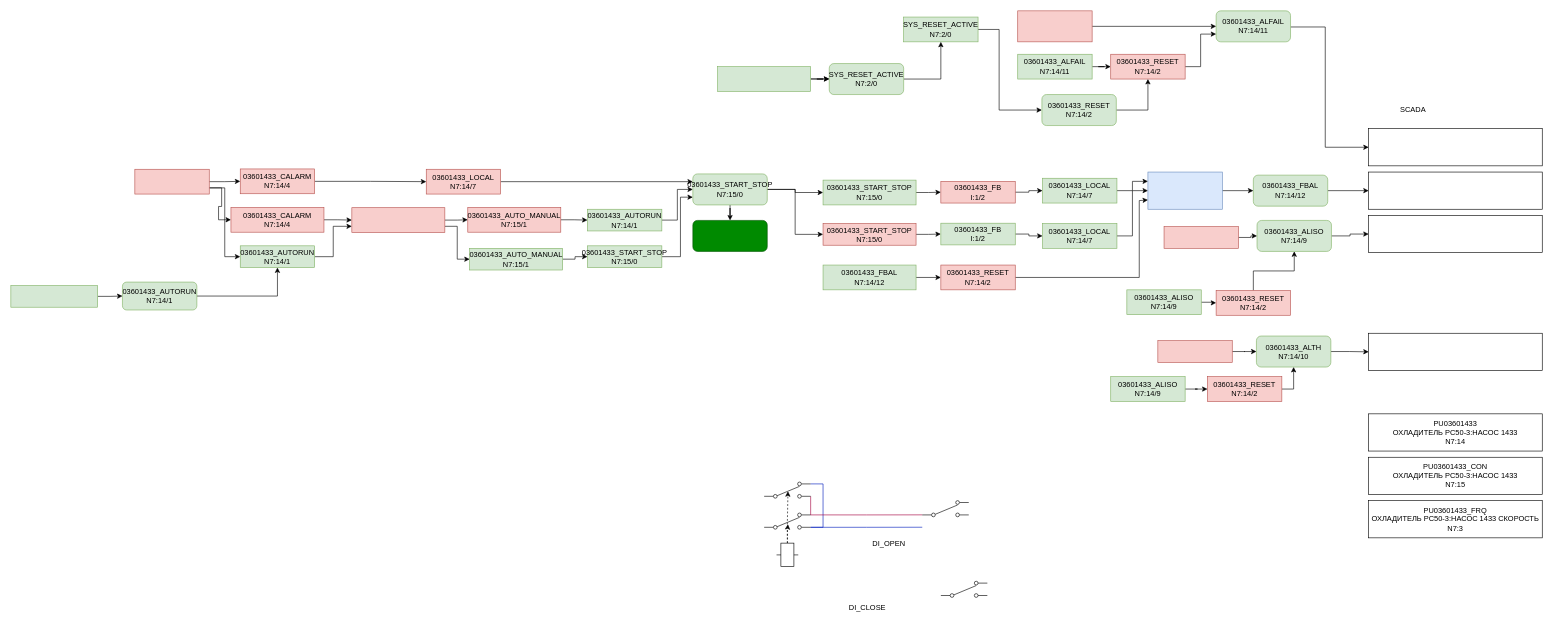
This 1553x625 diagram has some shape labels left out. The shapes that lost their labels are listed below. From the top down, each one's centre as x and y in pixels, then its label:
(1054,26): 03601433_FAIL I:1/4
(764,78): SYSTEM_ALARMS_RESET N7:2/2
(1455,147): P03601433_FAIL ОХЛАДИТЕЛЬ PC50-3:НАСОС 1433 ОШИБКА N7:14/11
(171,181): 03601433_SAFETY N7:14/3
(1184,190): TON T4:114
(1455,190): P03601433_FB ОХЛАДИТЕЛЬ PC50-3:НАСОС 1433 ОБРАТНАЯ СВЯЗЬ N7:14/12
(398,219): 03601433_IG N7:14/5
(729,235): 03601433_OUT O:3/0
(1200,237): 03601433_ISO I:1/0
(1455,234): P03601433_ISO ОХЛАДИТЕЛЬ PC50-3:НАСОС 1433 ИЗОЛЯТОР N7:14/9
(54,296): 03601433_LOGIC_AUTO B3:12/15
(1194,351): 03601433_TH I:1/1
(1455,351): P03601433_TH ОХЛАДИТЕЛЬ PC50-3:НАСОС 1433 АВТОМАТ N7:14/10
